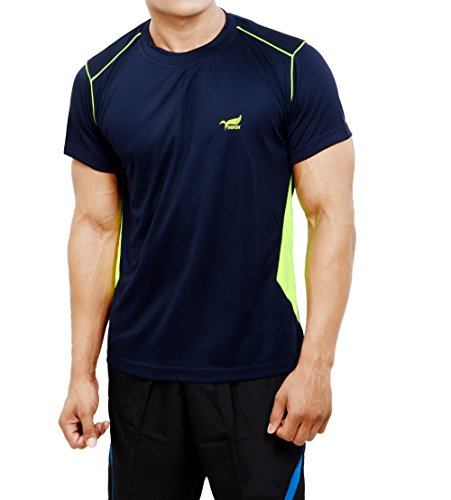T-Shirt: (60, 17, 361, 372)
